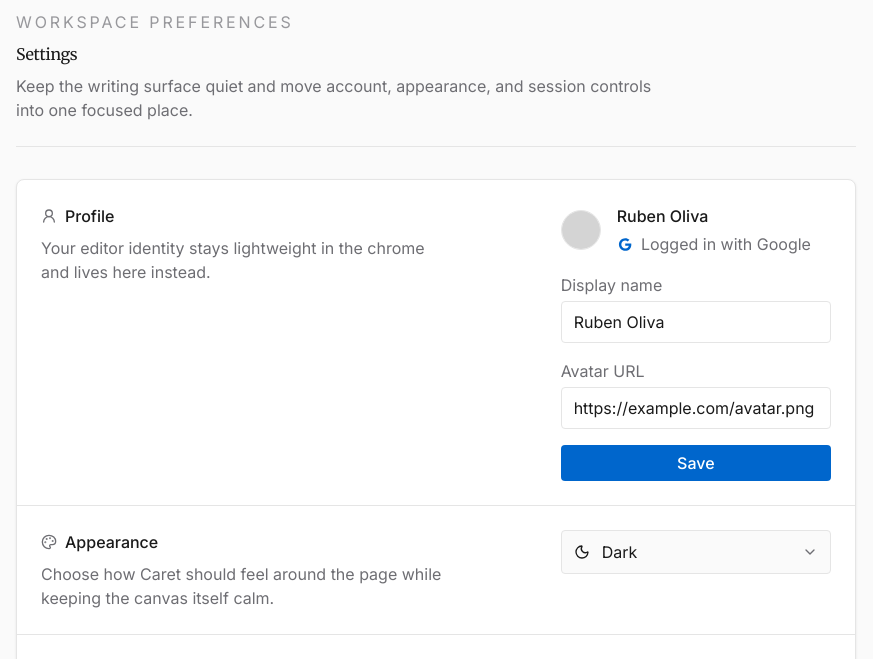
Scenario: SettingsPage › validates empty display name on save
The width and height of the screenshot is (873, 659).
Clear the field labelled "Display name": (696, 322) [561,300,831,342]
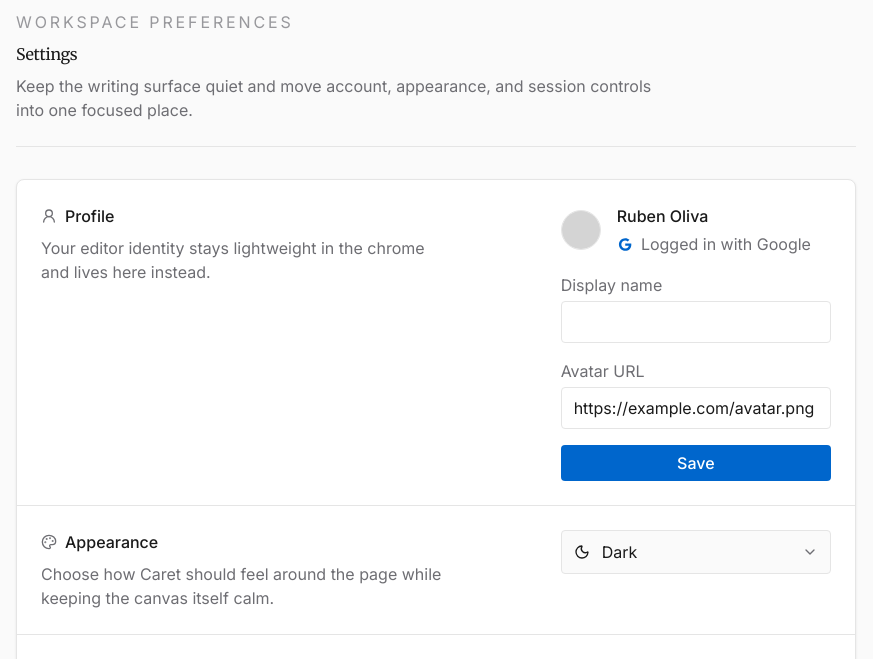
Click the button "Save": (696, 462) [561,444,831,480]
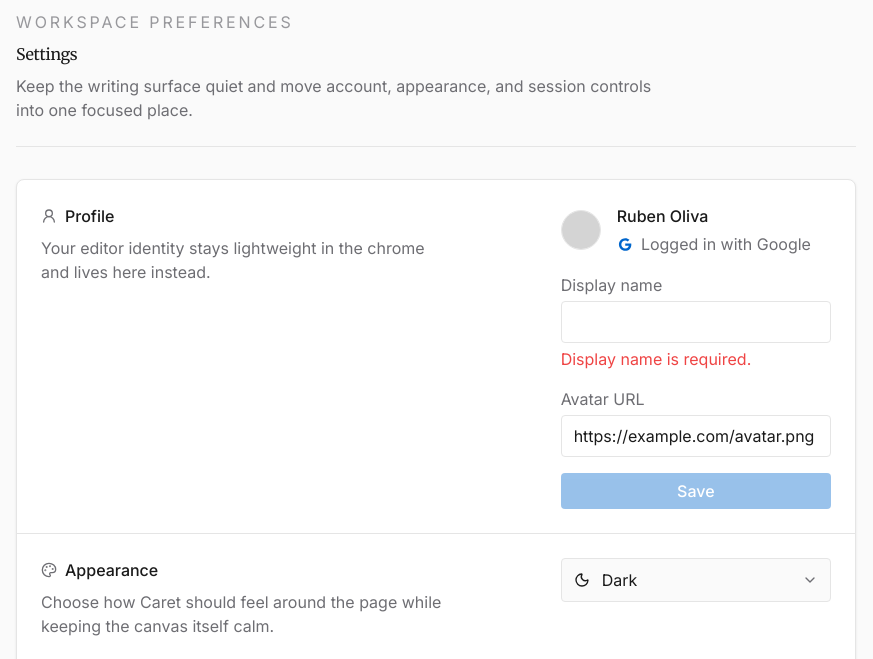
Now the message shows "Display name is required", box [561,348,751,368]
